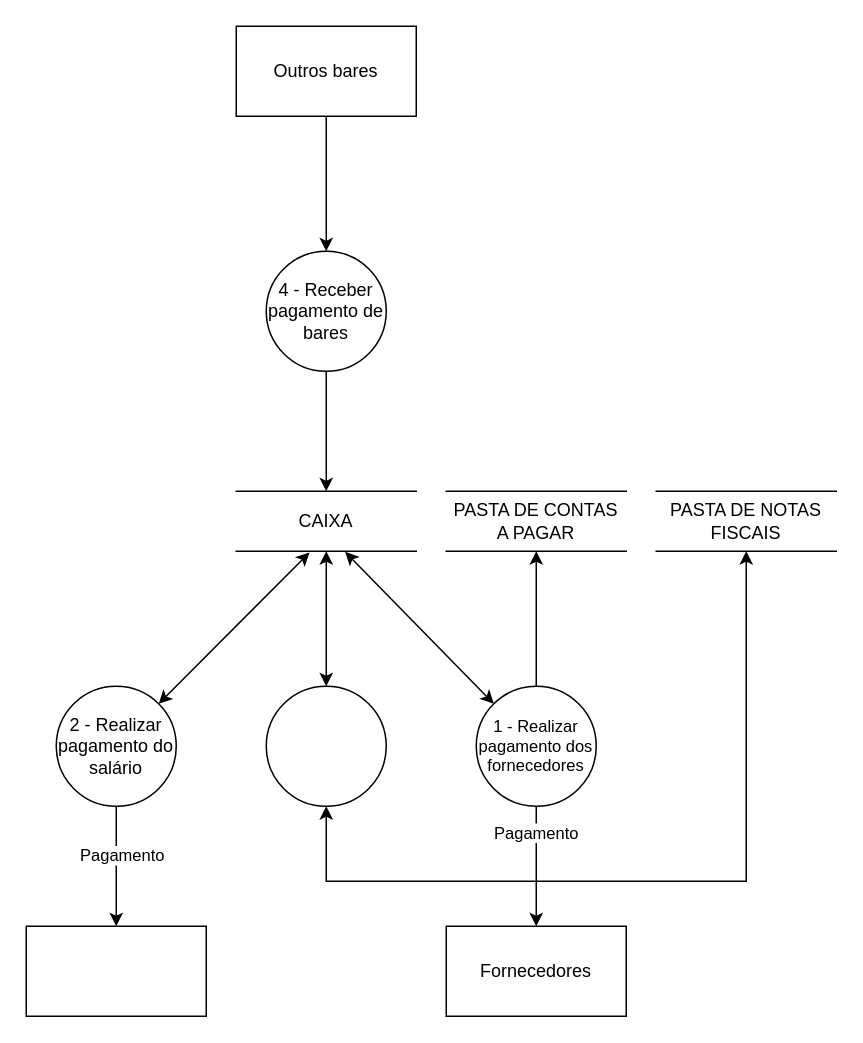
This 863x1043 diagram has some shape labels left out. The shapes that lost their labels are listed below. From the top down, each one's box as (x1, y1, x2, y2) in pixels, then its label:
(265, 685, 386, 806): 3 - Realizar pagamento de impostos
(25, 925, 206, 1016): Funcionários
